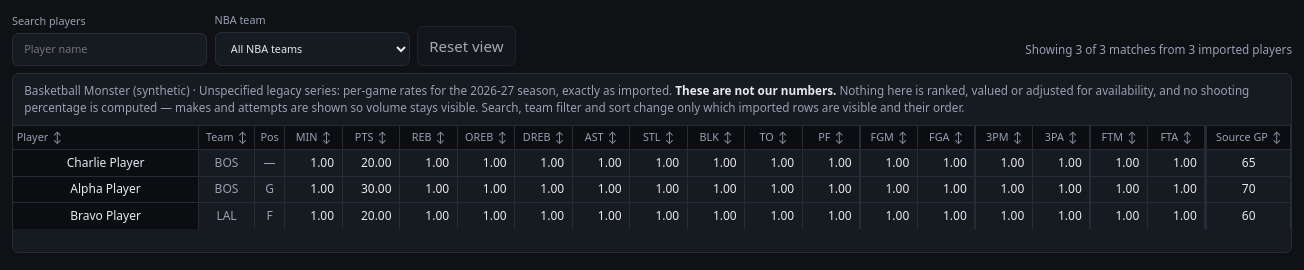
Test case: ProjectionsBrowser › searches, filters, reports counts, and resets to every imported row
Check: the message reads "Showing 3 of 3 matches from 3 imported players", box [1025,41,1292,58]
Type "charlie" into the search field labelled "Search players".
click(110, 49); type("charlie")  # box [12,33,207,66]
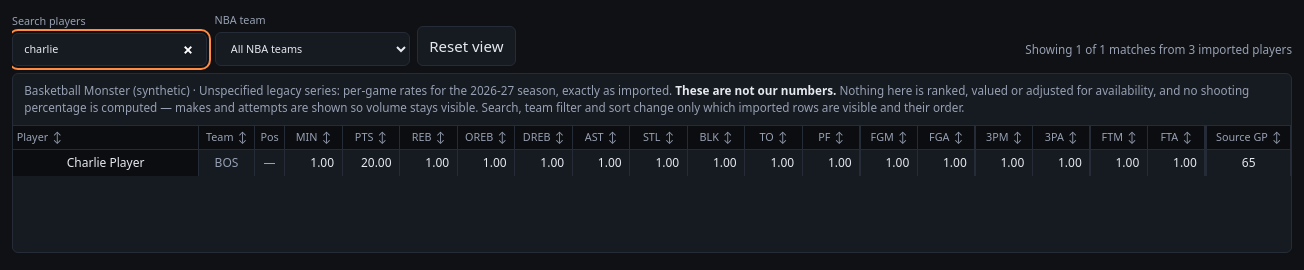
Check: the message reads "Showing 1 of 1 matches from 3 imported players", box [1025,41,1292,58]
Select "LAL" in the dropdown labelled "NBA team" at {"x": 312, "y": 49}, box [214,32,410,66]
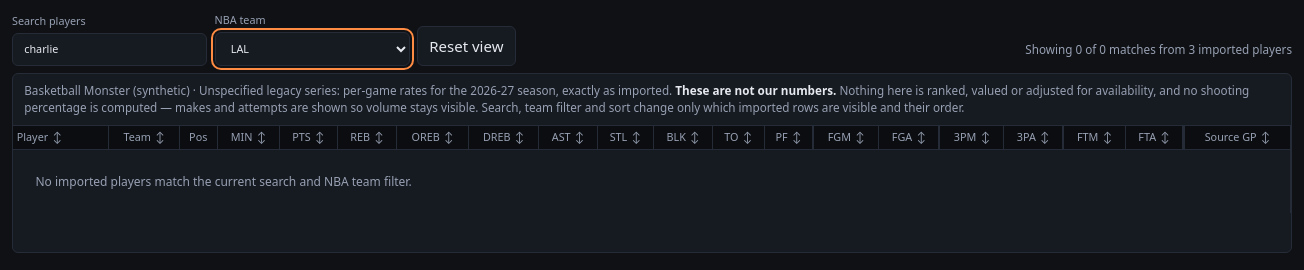
Check: the text "No imported players match" is shown, box [36,173,412,190]
Check: the message reads "Showing 0 of 0 matches from 3 imported players", box [1025,41,1292,58]
Click the button "Reset view".
click(466, 46)  # box [417,26,516,66]
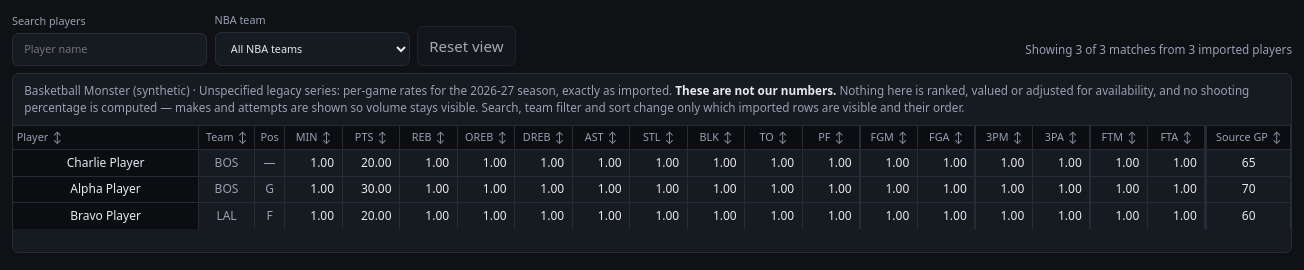
Check: the search field labelled "Search players" is empty, box [12,33,207,66]
Check: the message reads "Showing 3 of 3 matches from 3 imported players", box [1025,41,1292,58]
Check: the button "Reset view" is disabled, box [417,26,516,66]
